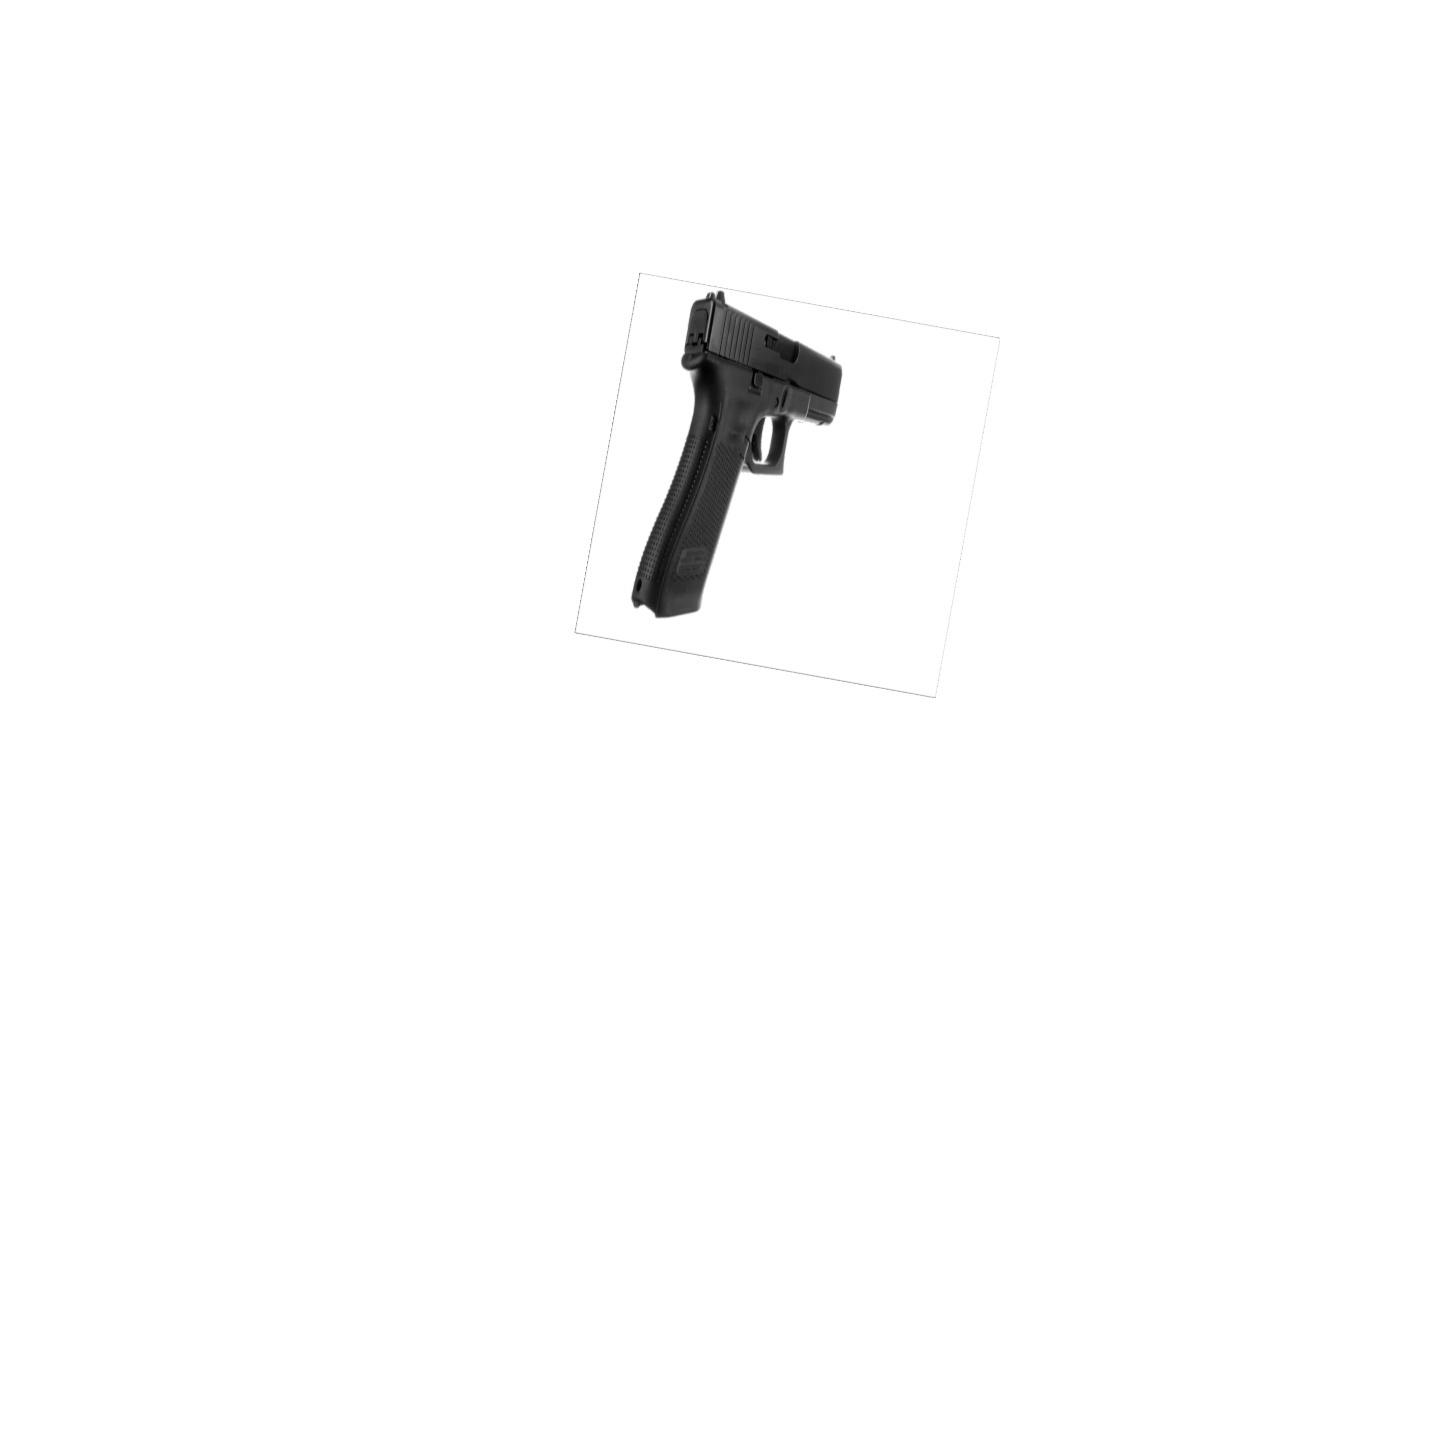gun: (629, 284, 839, 620)
